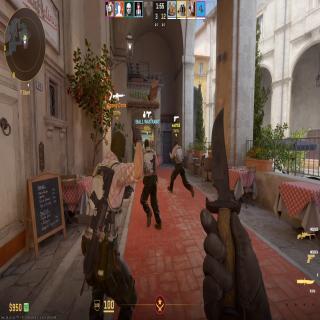T-Body: (80, 130, 138, 318), (142, 138, 162, 232), (168, 139, 193, 196)
T-Head: (110, 129, 127, 164), (144, 138, 150, 150), (174, 139, 178, 147)
